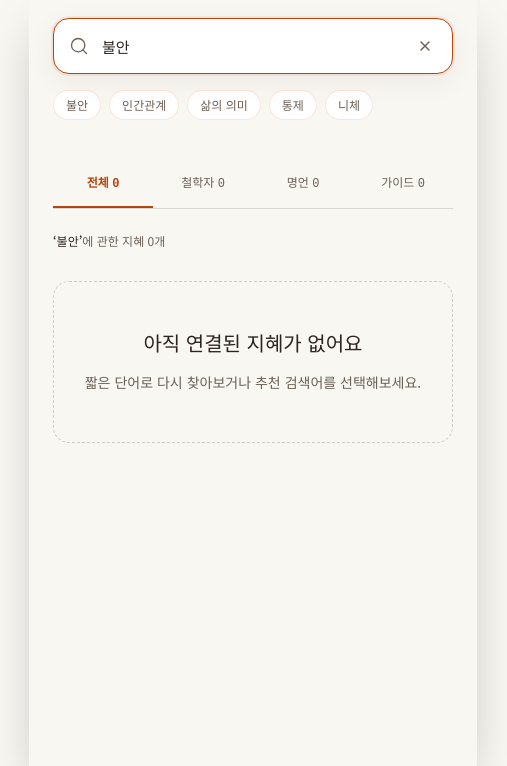
search navigation › restores the input when browser history changes without overwriting the URL
This screenshot has width=507, height=766.
Replace the text in the field with "니체" at (253, 46), box [53,18,453,74]
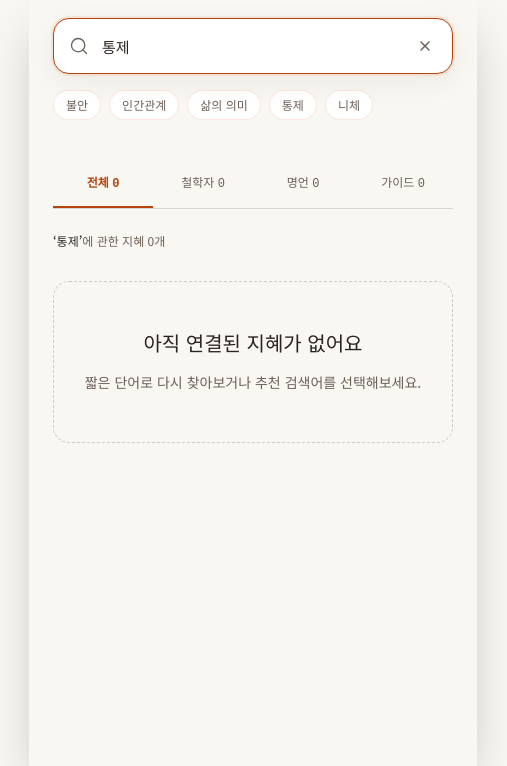
Now the field holds "통제", box [53,18,453,74]
